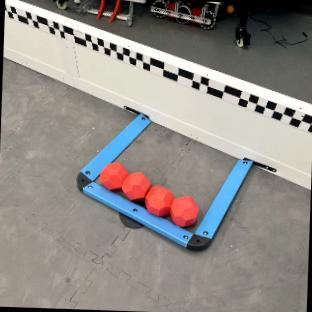Parking - Part: (77, 115, 251, 249)
V5_RED: (100, 162, 197, 227)
